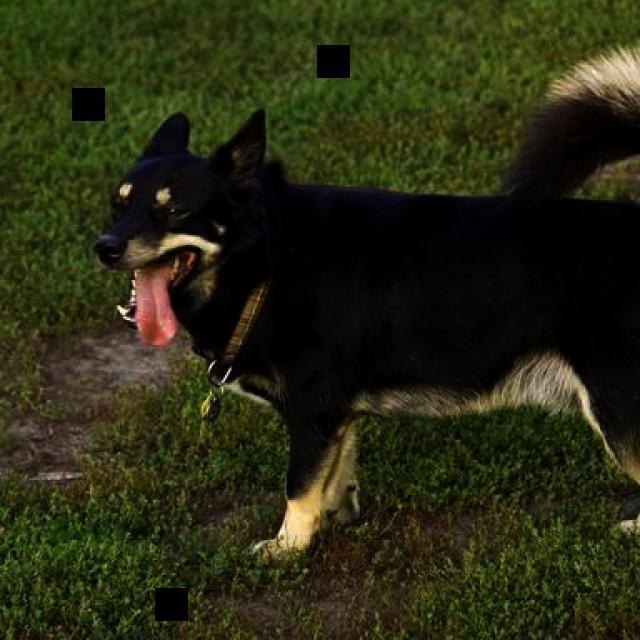adult_dog: (93, 45, 640, 562)
